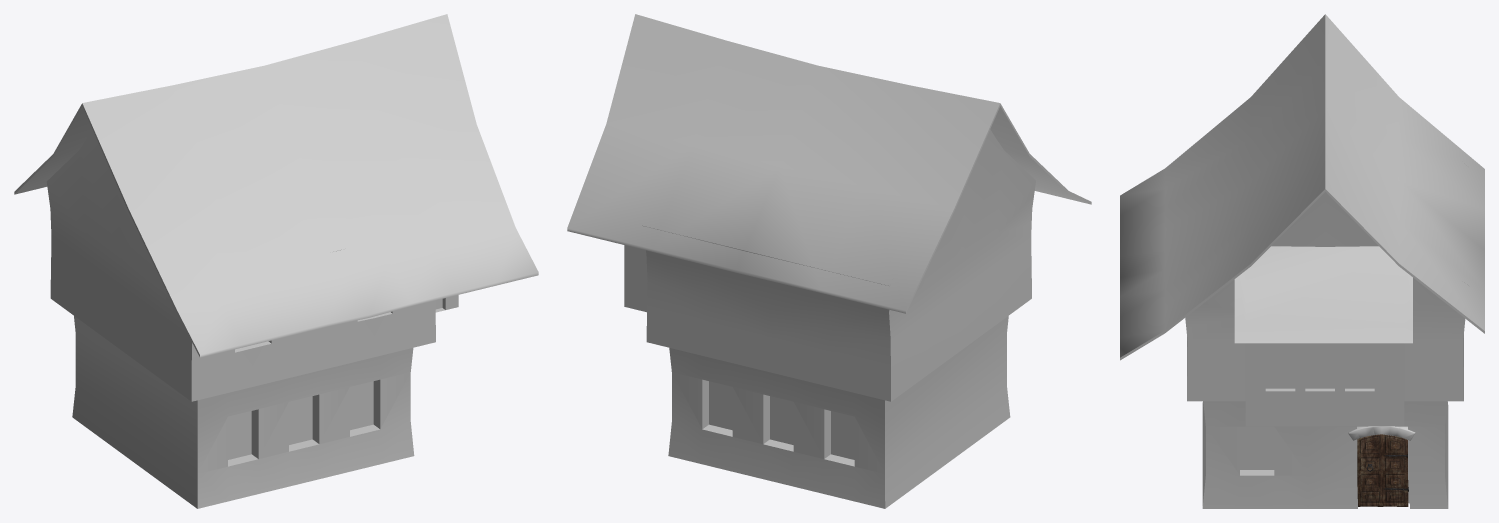
File: fantasy_house4_lod2.fbx
3 views of the same model, side by side, from view 1: azimuth 30°, elevation 25°; view 2: azimuth 150°, elevation 25°; view 3: azimuth 270°, elevation 25° (orthographic).
Visible parts, largest first — view 1: Mesh Object; view 2: Mesh Object; view 3: Mesh Object.
Boxes of the visible parts, <box> form: Mesh Object: <box>14,14,538,508</box>; Mesh Object: <box>567,14,1091,508</box>; Mesh Object: <box>1120,14,1484,508</box>.
Bounding box in the file's own units: 10.1 × 9.86 × 8.91.
